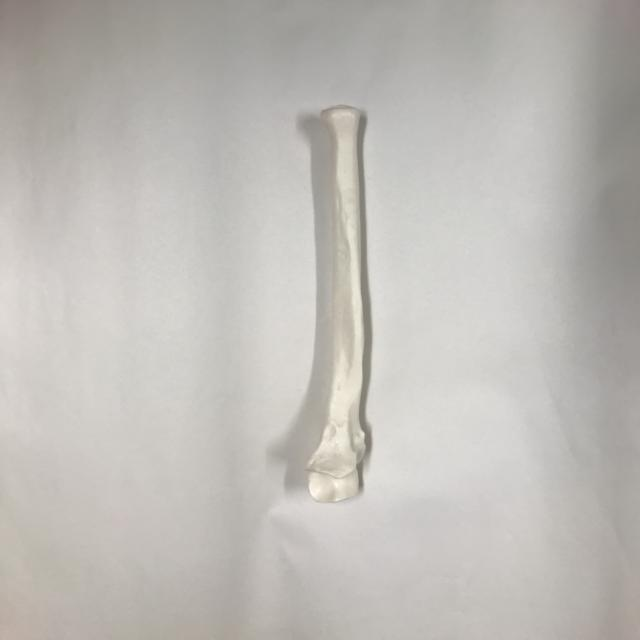bone: (291, 105, 384, 507)
